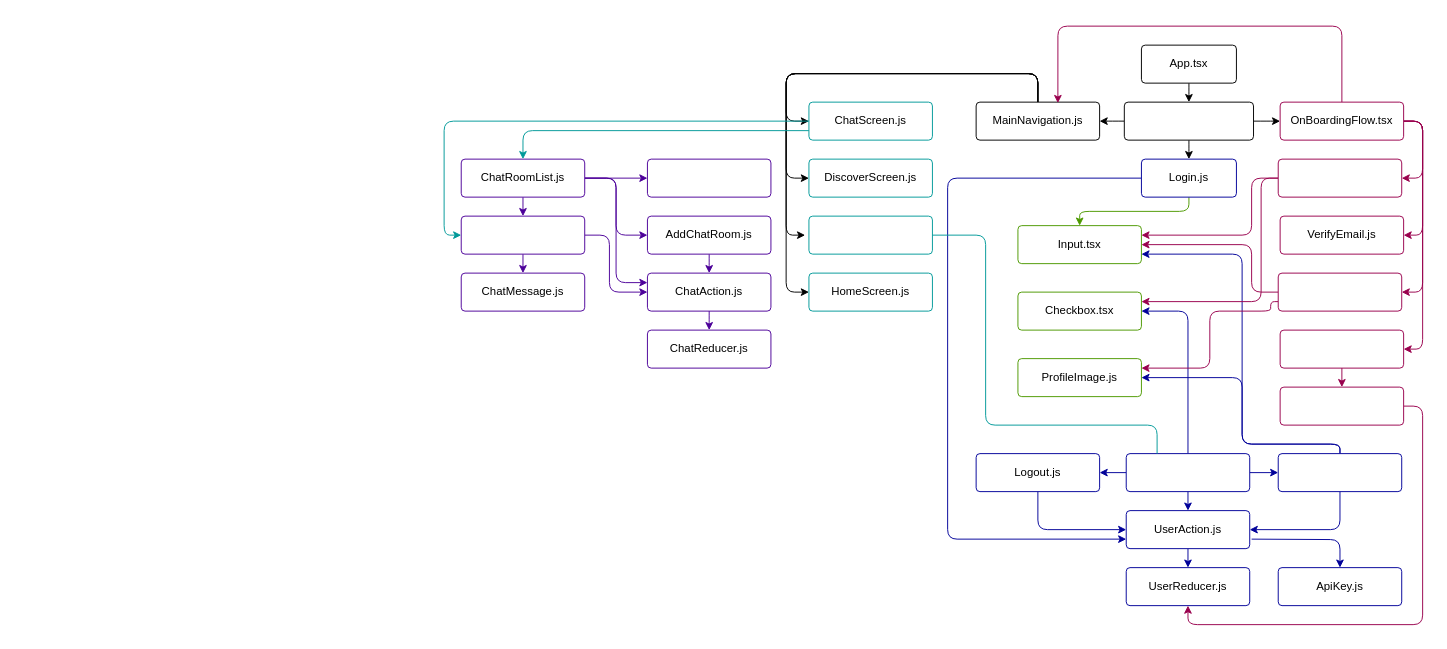
This 1447x649 diagram has some shape labels left out. The centre of each missing label's shape, as x and y in pixels:
ChatRoom.js: point (522, 234)
ChatRoomPreview.js: point (708, 177)
EditProfile.js: point (1339, 472)
Menu.js: point (1187, 472)
Notifications.js: point (1341, 348)
OnboardingAction.js: point (1341, 405)
ProfileScreen.js: point (870, 234)
SetUpProfile.js: point (1339, 291)
Signup.js: point (1339, 177)
StartNavigation.tsx: point (1188, 120)
